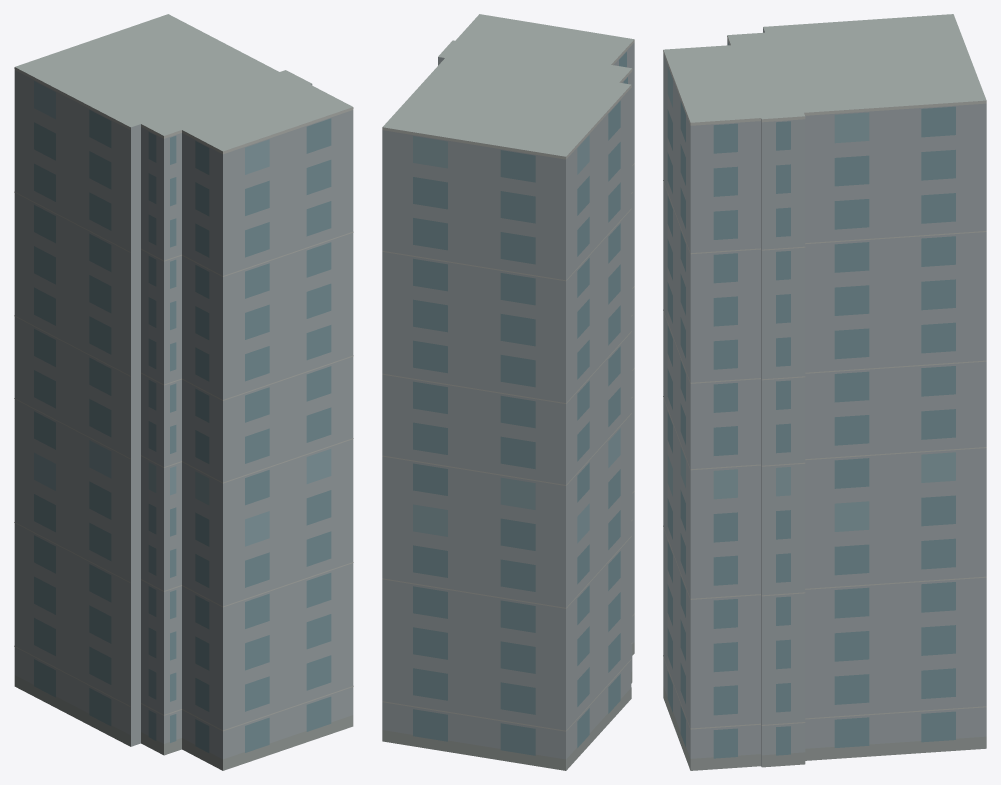
Rendered from survey-upis-32856001.glb.
3 views of the same model, side by side, from view 1: azimuth 30°, elevation 25°; view 2: azimuth 150°, elevation 25°; view 3: azimuth 270°, elevation 25° (orthographic). The views are drawn at different scales.
Parts seen in each view (by area): view 1: survey-upis-32856001.tmp; view 2: survey-upis-32856001.tmp; view 3: survey-upis-32856001.tmp.
Part boxes in pixels (<box>): survey-upis-32856001.tmp: <box>14,14,353,770</box>; survey-upis-32856001.tmp: <box>382,14,634,770</box>; survey-upis-32856001.tmp: <box>663,14,986,770</box>.
Bounding box in the file's own units: 18.75 × 52 × 23.54.
